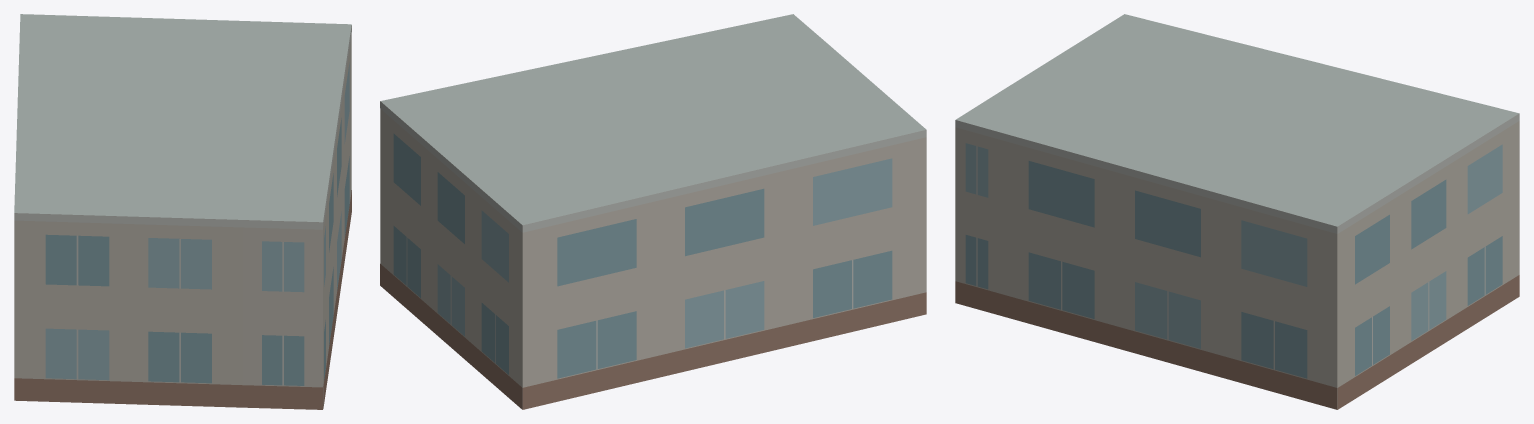
File: survey-upis-32623632.glb
3 renders of one model, left to right at view 1: azimuth 30°, elevation 25°; view 2: azimuth 150°, elevation 25°; view 3: azimuth 270°, elevation 25°, orthographic. The views are drawn at different scales.
Visible parts, largest first — view 1: survey-upis-32623632.tmp; view 2: survey-upis-32623632.tmp; view 3: survey-upis-32623632.tmp.
Part boxes in pixels (box(x1,y1,x2,y2)): survey-upis-32623632.tmp: box(14, 14, 351, 409); survey-upis-32623632.tmp: box(380, 14, 926, 409); survey-upis-32623632.tmp: box(955, 14, 1519, 409).
Size of the model in its own units: 15.2 by 6.1 by 17.04.
